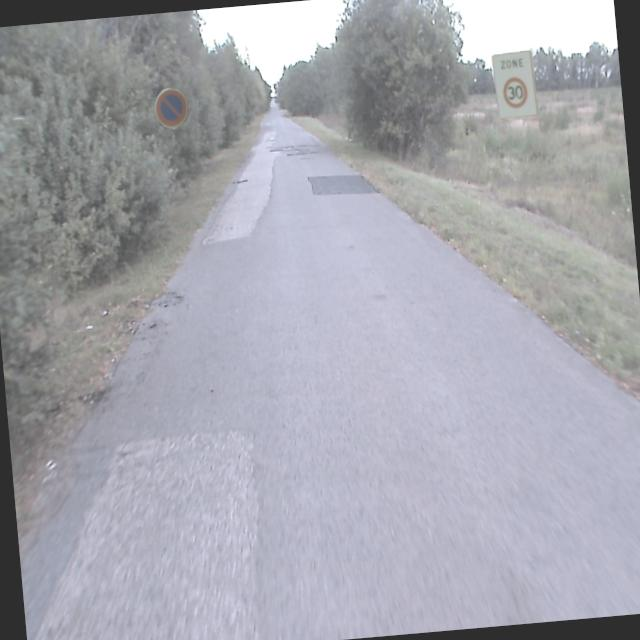road: (20, 115, 640, 640)
